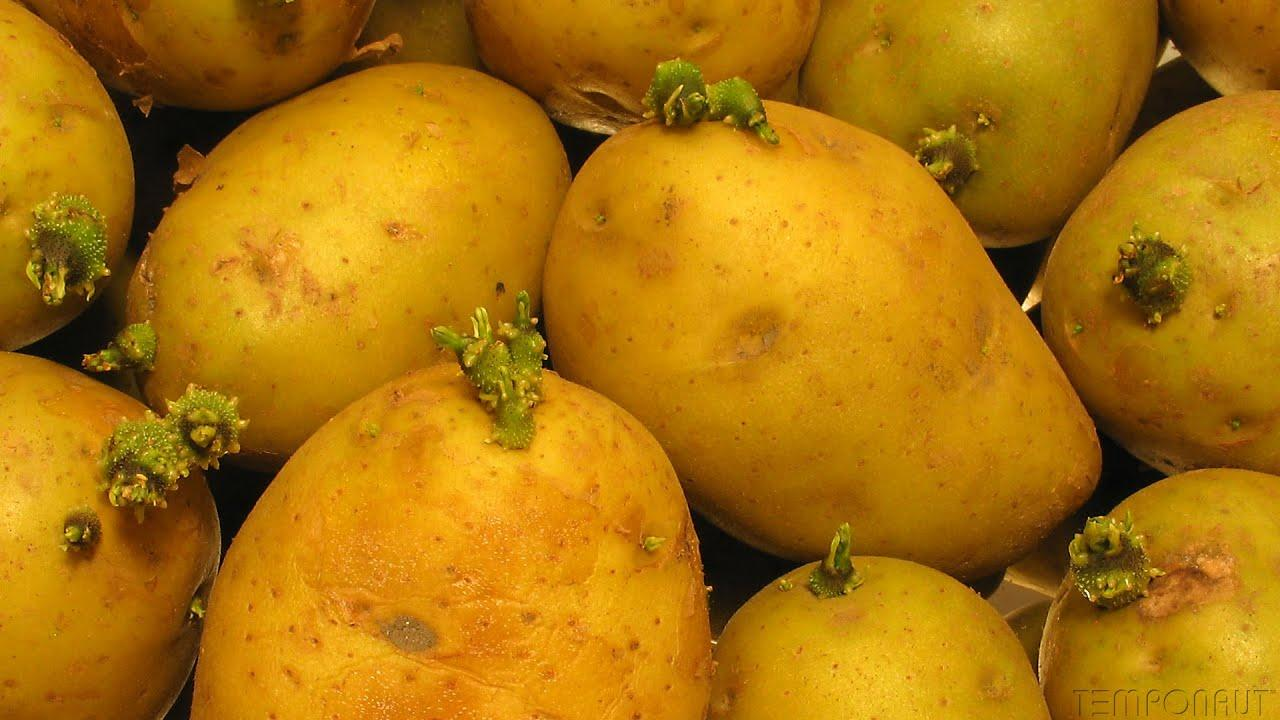peas: (1, 1, 1277, 717)
potato: (540, 61, 1102, 581), (111, 60, 572, 467), (1039, 88, 1278, 475), (798, 0, 1159, 248), (0, 348, 221, 718), (708, 523, 1051, 718), (1037, 466, 1278, 718), (465, 0, 820, 135), (0, 0, 135, 351), (30, 0, 398, 112), (1159, 0, 1279, 96), (356, 0, 478, 69)
